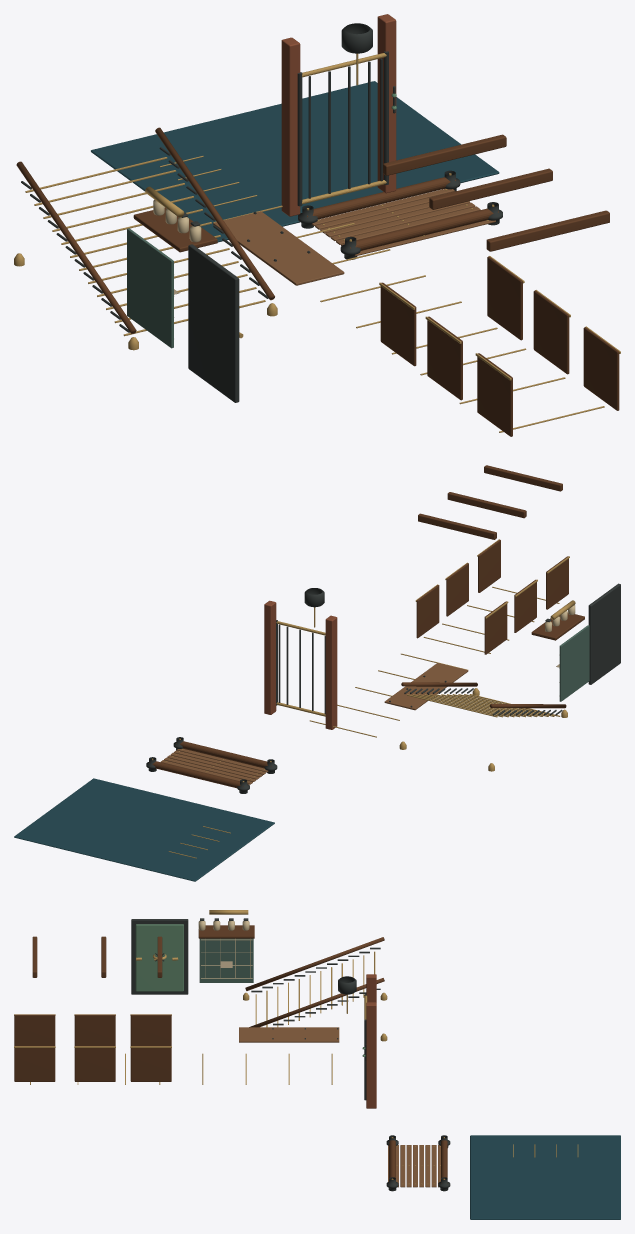
File: tavern-routes.glb
3 views of the same model, one above another, from view 1: azimuth 30°, elevation 25°; view 2: azimuth 150°, elevation 25°; view 3: azimuth 270°, elevation 25° (orthographic). The views are drawn at different scales.
Visible parts, largest first — view 1: Route_Dark service oak, Route_River water, Route_Blackened iron, Route_Aged brass, Route_store_Kiln brick, Route_Quay weathered timber, Route_Kitchen glazed tile, Route_store_Blackened iron, Route_store_Quay weathered timber, Route_store_Aged brass, Route_Old ivory paint; view 2: Route_River water, Route_Dark service oak, Route_Blackened iron, Route_Aged brass, Route_store_Kiln brick, Route_Quay weathered timber, Route_Kitchen glazed tile, Route_store_Blackened iron, Route_store_Quay weathered timber; view 3: Route_River water, Route_Dark service oak, Route_Exit enamel, Route_Kitchen glazed tile, Route_Blackened iron, Route_Aged brass, Route_Quay weathered timber, Route_store_Quay weathered timber, Route_store_Kiln brick, Route_Old ivory paint, Route_store_Blackened iron.
Part boxes in pixels (left/top/right/bottom): Route_Dark service oak: left=16, top=127, right=619, bottom=436; Route_River water: left=91, top=81, right=499, bottom=242; Route_Blackened iron: left=21, top=147, right=502, bottom=402; Route_Aged brass: left=14, top=156, right=620, bottom=432; Route_store_Kiln brick: left=281, top=14, right=396, bottom=216; Route_Quay weathered timber: left=311, top=188, right=495, bottom=256; Route_Kitchen glazed tile: left=127, top=228, right=173, bottom=348; Route_store_Blackened iron: left=247, top=23, right=395, bottom=261; Route_store_Quay weathered timber: left=213, top=211, right=344, bottom=285; Route_store_Aged brass: left=302, top=53, right=386, bottom=204; Route_Old ivory paint: left=153, top=199, right=201, bottom=317; Route_River water: left=14, top=778, right=274, bottom=881; Route_Dark service oak: left=149, top=465, right=584, bottom=788; Route_Blackened iron: left=146, top=583, right=620, bottom=793; Route_Aged brass: left=152, top=539, right=575, bottom=858; Route_store_Kiln brick: left=264, top=600, right=337, bottom=729; Route_Quay weathered timber: left=161, top=748, right=268, bottom=784; Route_Kitchen glazed tile: left=559, top=625, right=589, bottom=701; Route_store_Blackened iron: left=276, top=588, right=446, bottom=714; Route_store_Quay weathered timber: left=384, top=663, right=468, bottom=710; Route_River water: left=470, top=1135, right=620, bottom=1219; Route_Dark service oak: left=14, top=925, right=447, bottom=1183; Route_Exit enamel: left=135, top=924, right=183, bottom=991; Route_Kitchen glazed tile: left=199, top=938, right=253, bottom=982; Route_Blackened iron: left=131, top=918, right=450, bottom=1191; Route_Aged brass: left=14, top=910, right=578, bottom=1184; Route_Quay weathered timber: left=388, top=1145, right=440, bottom=1187; Route_store_Quay weathered timber: left=239, top=1027, right=339, bottom=1042; Route_store_Kiln brick: left=366, top=974, right=376, bottom=1108; Route_Old ivory paint: left=198, top=921, right=252, bottom=978; Route_store_Blackened iron: left=272, top=976, right=366, bottom=1100.
Bounding box in the file's own units: 9 × 4.46 × 14.09.
